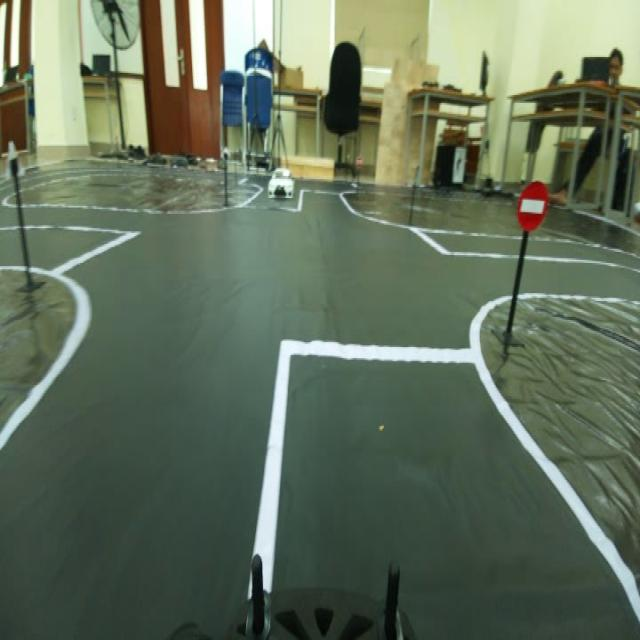no_entry: (508, 168, 559, 245)
